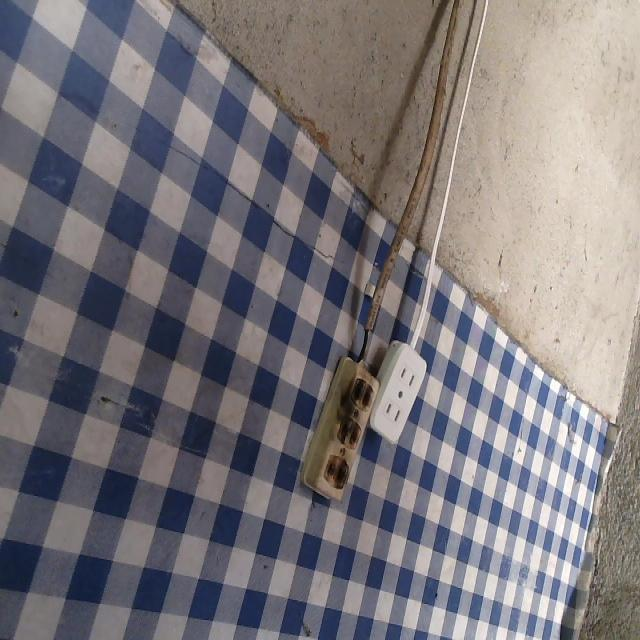-: (348, 366, 373, 414), (323, 452, 351, 492), (332, 412, 360, 449)
